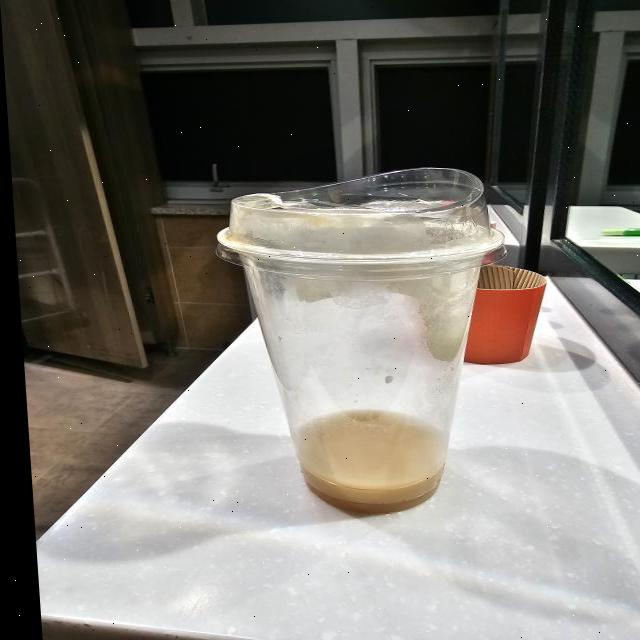cup: (201, 175, 511, 516)
